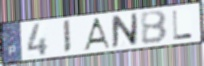4: (26, 22, 51, 57)
A: (82, 17, 112, 51)
B: (139, 9, 169, 46)
I: (62, 19, 72, 55)
L: (172, 9, 195, 41)
N: (111, 12, 139, 49)
